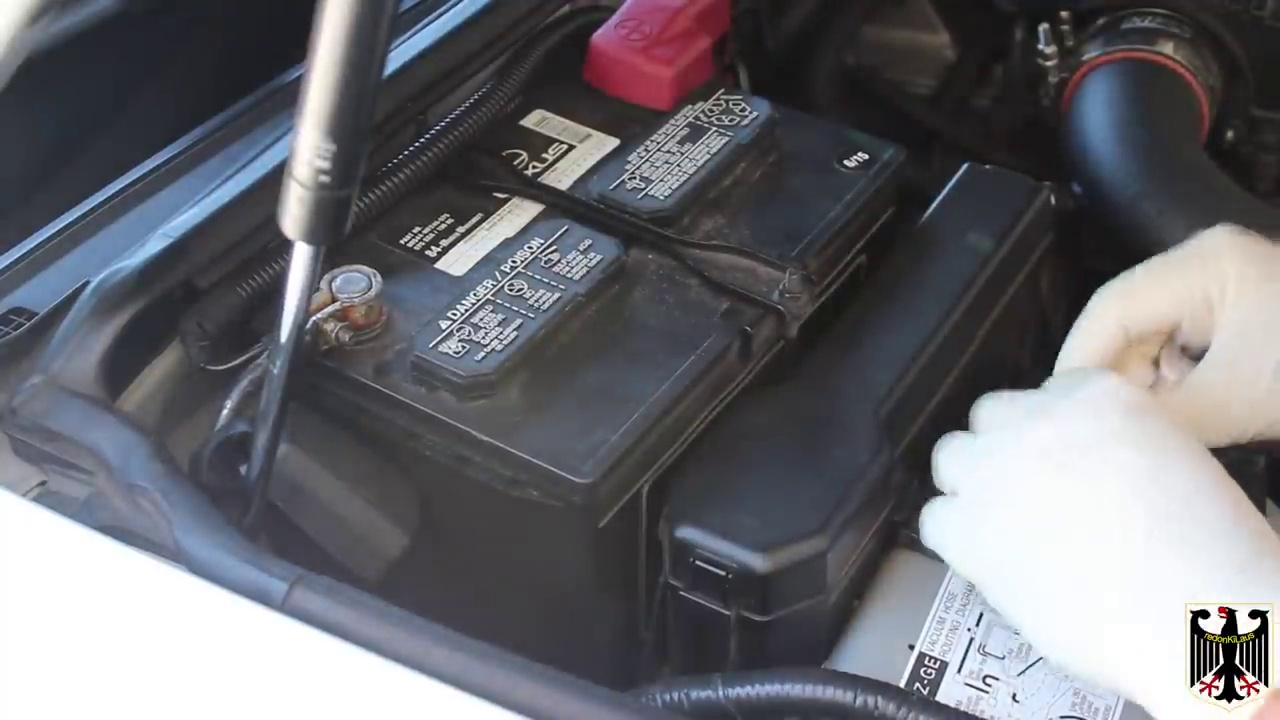battery: (262, 23, 899, 508)
neg_connected: (222, 225, 427, 387)
pos_connected: (549, 6, 763, 118)
